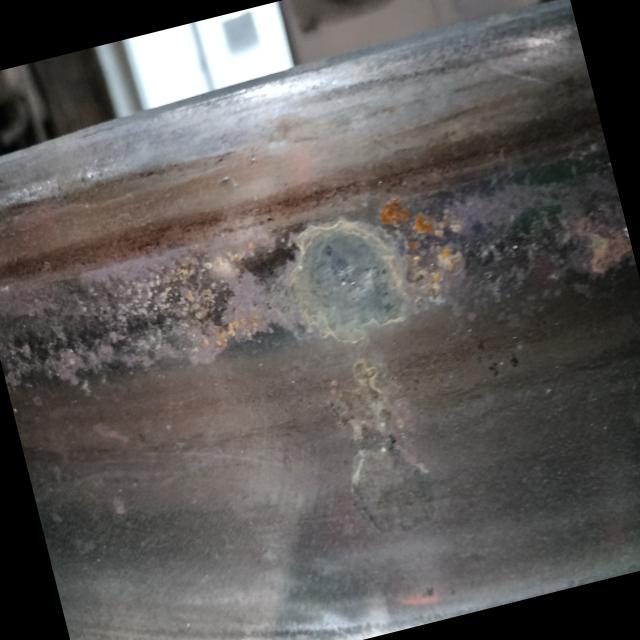flat: (1, 127, 640, 433)
